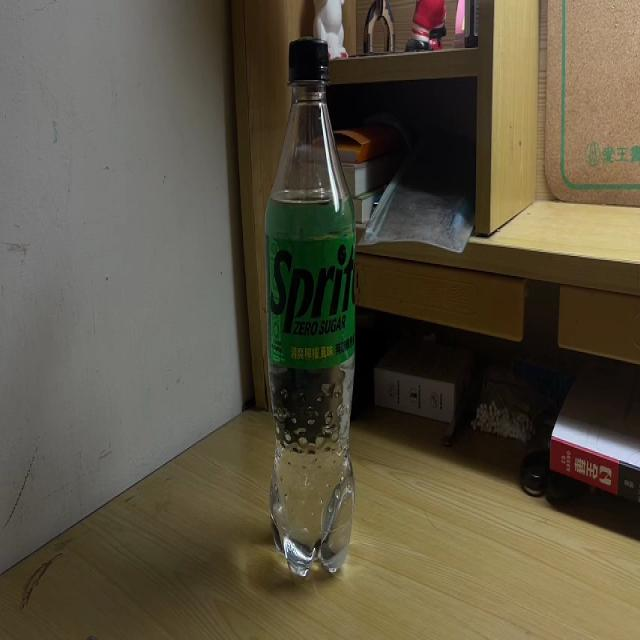Sprite: (264, 36, 359, 581)
